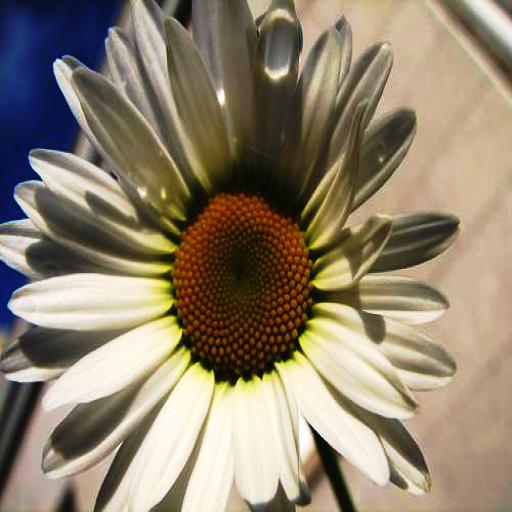tulip: (0, 0, 457, 512)
